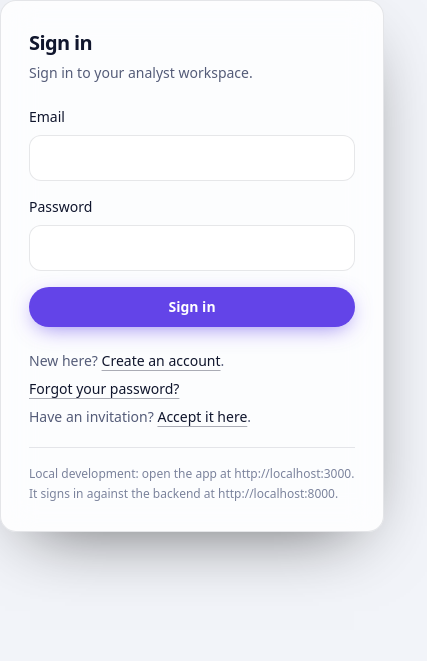
Scenario: sign-in screen › reports an unreachable backend without exposing the transport error
This screenshot has width=427, height=661.
Step 1. Type "analyst@example.invalid" into the field labelled "Email" → (192,158), box [29,135,355,181]
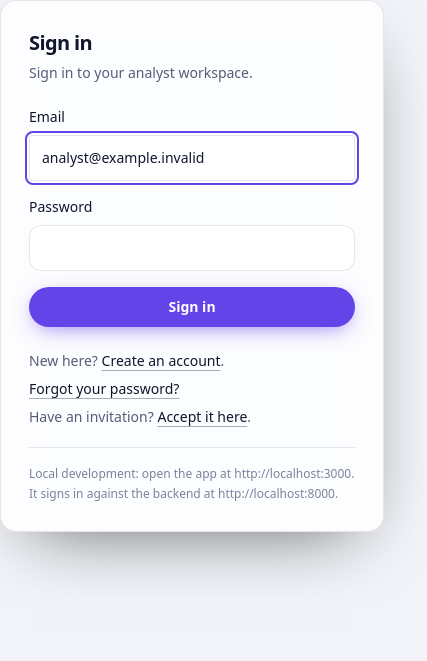
Step 2. Type "correct horse battery" into the password field labelled "Password" → (192,248), box [29,225,355,271]
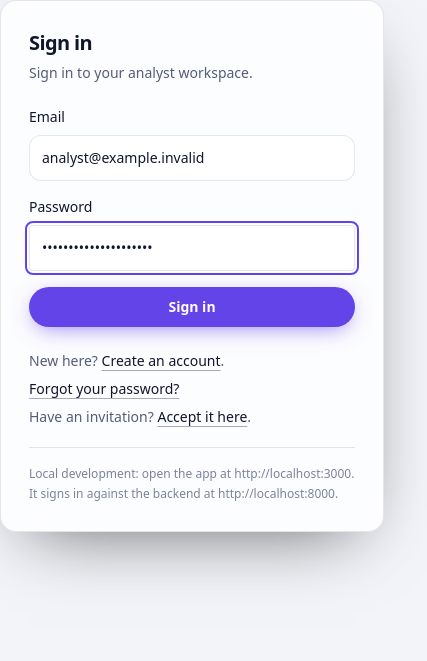
Step 3. Click the button "Sign in" → (192,307), box [29,287,355,327]
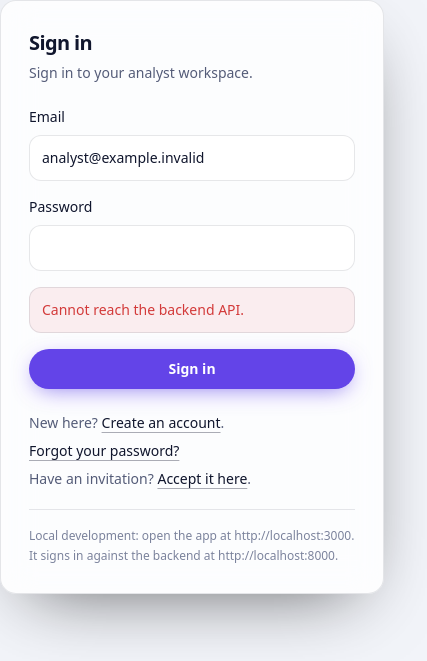
Check: the message shows "Cannot reach the backend API", box [42,300,244,319]
